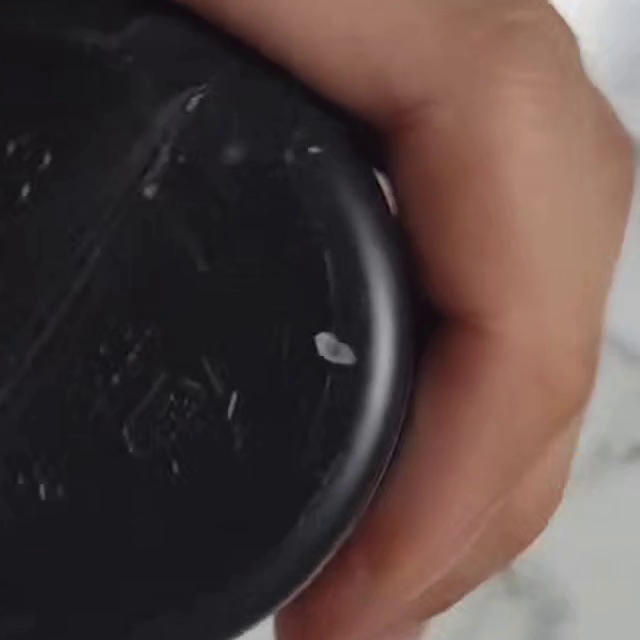Plastic: (115, 347, 248, 477)
